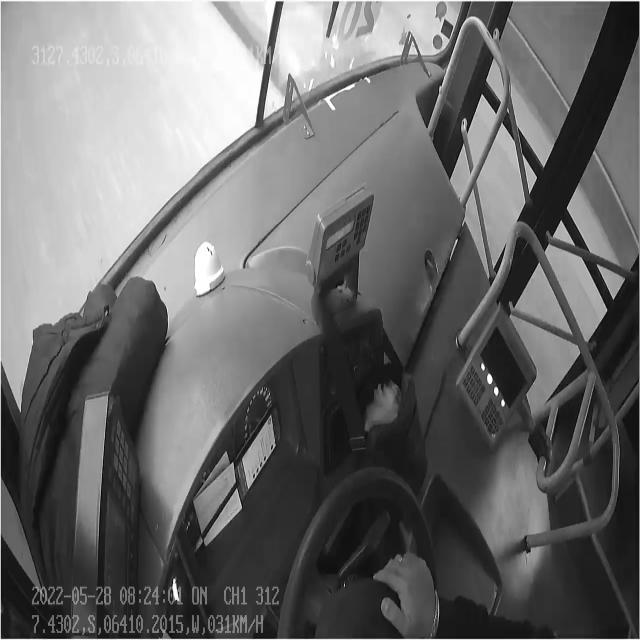phone: (224, 410, 279, 486)
wheel: (284, 484, 462, 640)
